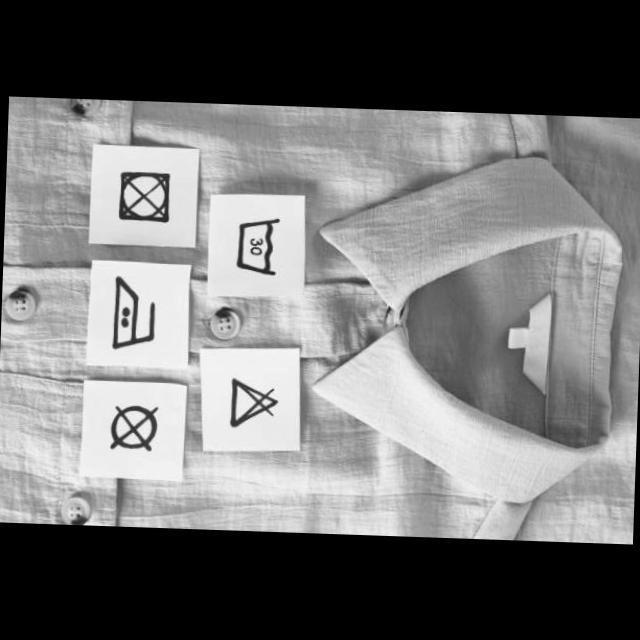30C: (229, 214, 284, 281)
DN_bleach: (225, 374, 282, 433)
DN_dry_clean: (106, 402, 162, 455)
DN_tumble_dry: (114, 168, 174, 226)
iron_medium: (106, 272, 160, 355)
